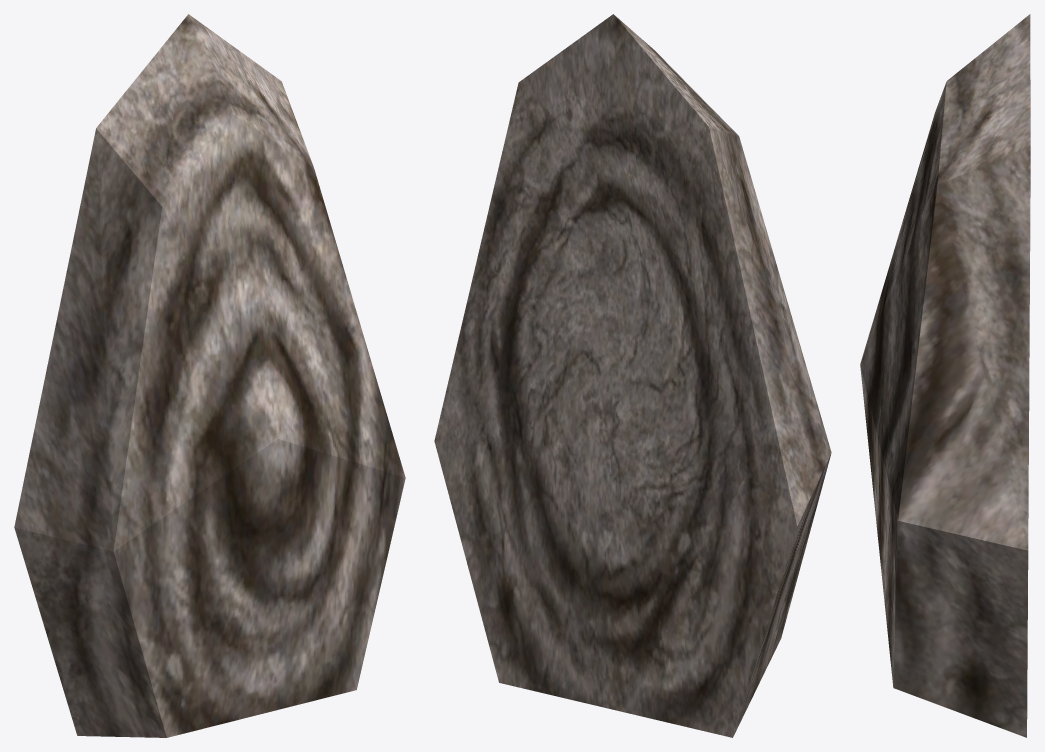
File: thm_dath_mtn_clan_pillar_s01_l3.fbx
3 views of the same model, side by side, from view 1: azimuth 30°, elevation 25°; view 2: azimuth 150°, elevation 25°; view 3: azimuth 270°, elevation 25° (orthographic). The views are drawn at different scales.
Parts seen in each view (by area): view 1: mesh_node; view 2: mesh_node; view 3: mesh_node.
Boxes of the visible parts, x1,y1,x2,y2 form: mesh_node: [14, 14, 405, 737]; mesh_node: [434, 14, 831, 737]; mesh_node: [860, 14, 1030, 737].
Bounding box in the file's own units: 6.12 × 11.35 × 2.62.
2 materials, 2 textured.
